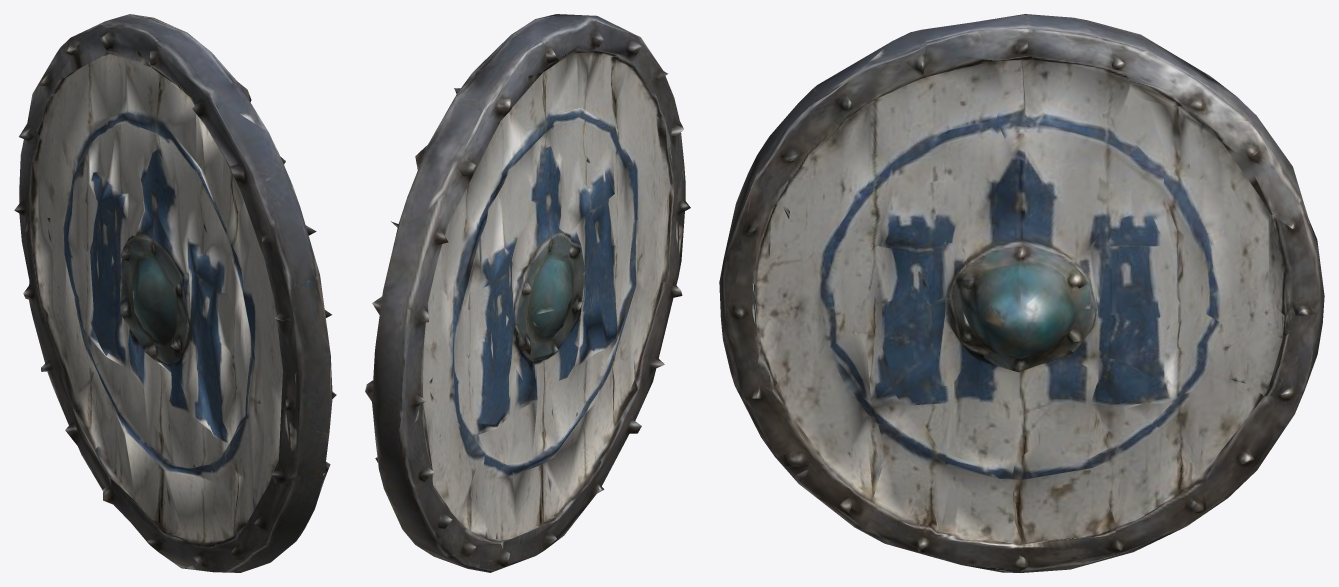
File: shield.glb
3 renders of one model, left to right at view 1: azimuth 30°, elevation 25°; view 2: azimuth 150°, elevation 25°; view 3: azimuth 270°, elevation 25°, orthographic. The views are drawn at different scales.
Parts seen in each view (by area): view 1: tripo_node_45a31245-0636-44d2-86a5-c2b99cbcdc56; view 2: tripo_node_45a31245-0636-44d2-86a5-c2b99cbcdc56; view 3: tripo_node_45a31245-0636-44d2-86a5-c2b99cbcdc56.
Boxes of the visible parts, x1,y1,x2,y2 form: tripo_node_45a31245-0636-44d2-86a5-c2b99cbcdc56: (14, 14, 336, 572); tripo_node_45a31245-0636-44d2-86a5-c2b99cbcdc56: (365, 14, 690, 572); tripo_node_45a31245-0636-44d2-86a5-c2b99cbcdc56: (719, 14, 1324, 572).
Bounding box in the file's own units: 0.2123 × 0.9776 × 0.9789.
Materials: 1 (1 with a texture image).
